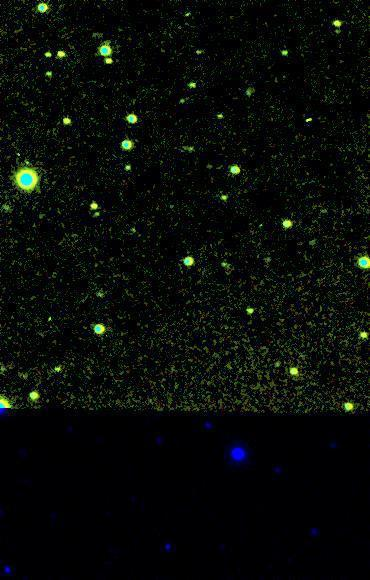star: (178, 0, 208, 30)
